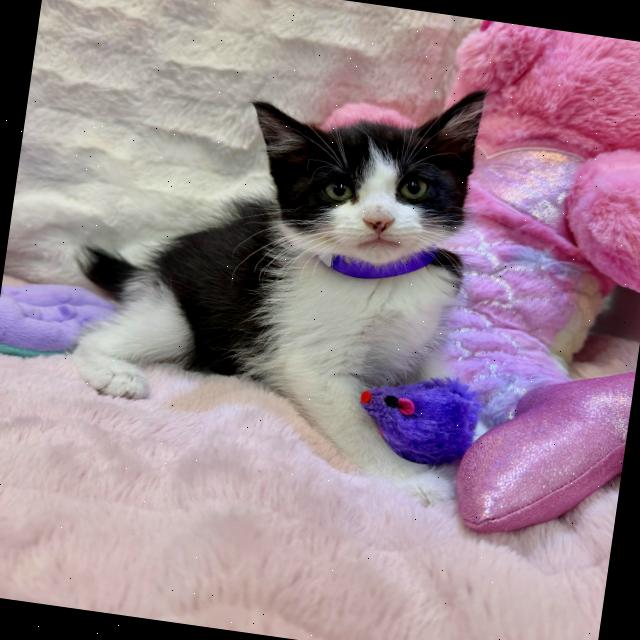manx_cat: (213, 55, 508, 292)
